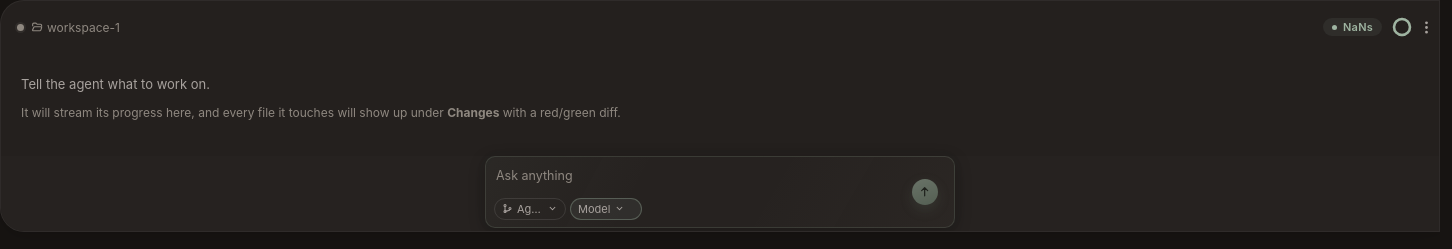
Scenario: agent panel usage tracker › caps the fill at 100% when input tokens exceed the context limit
The width and height of the screenshot is (1452, 249).
Click the button with class "agent-usage-toggle".
click(1402, 27)  # box [1389,13,1415,41]
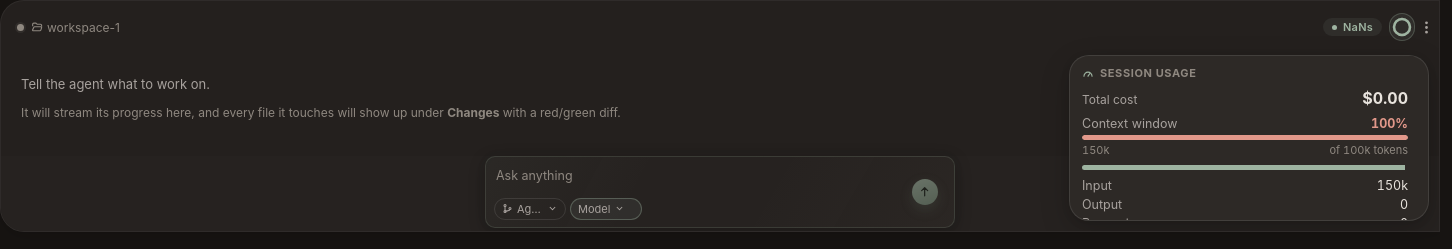
Result: the text with class "agent-usage-context-percent" reads "100%" at [1371,116,1408,131]
